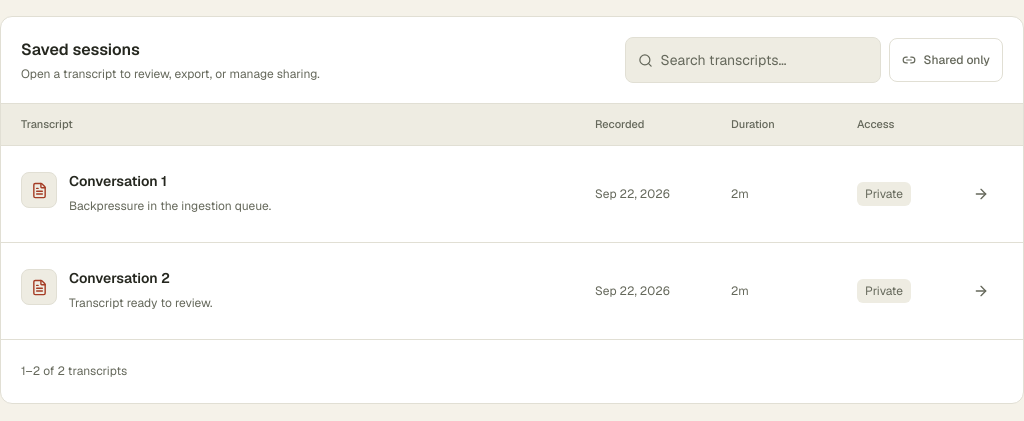
Scenario: transcript library › searches summary text, exposes clear, and restores search focus
The image size is (1024, 421).
Type "backpressure" into the field labelled "Search transcripts" at [766, 60], box [652,38,880,82]
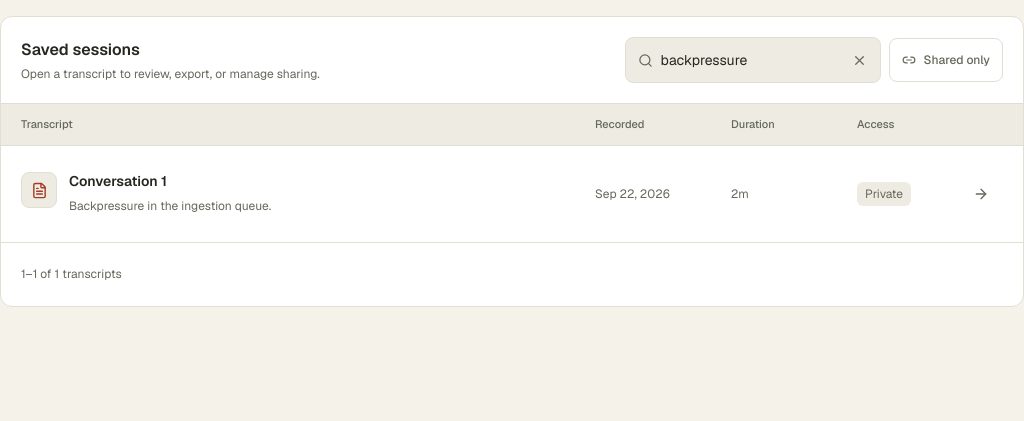
Check: the message shows "1–1 of 1", box [21,266,122,282]
Click the button named "Clear transcript search" at [860, 60], box [840,38,880,82]
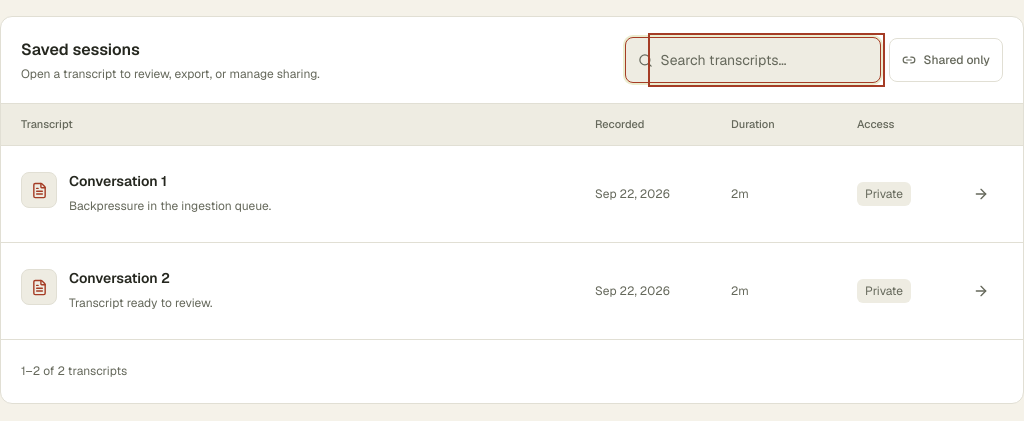
Check: the field labelled "Search transcripts" is empty, box [652,38,880,82]
Check: the message shows "1–2 of 2", box [21,363,127,379]
